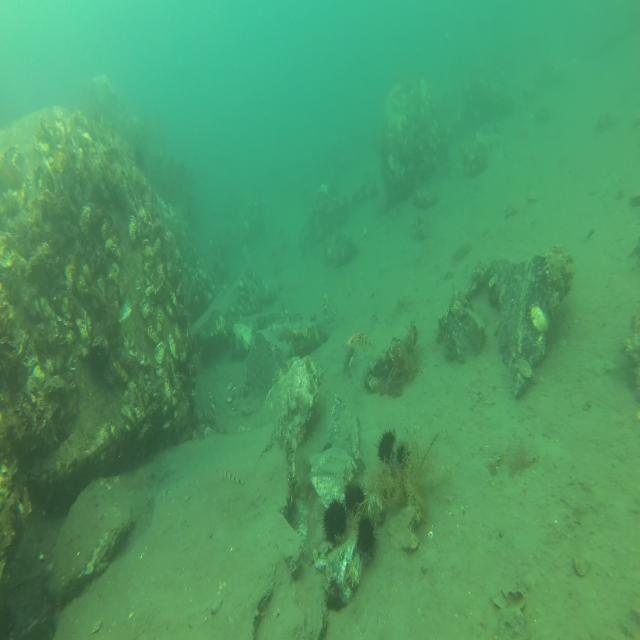echinus: (323, 496, 347, 543), (88, 343, 109, 381), (378, 429, 397, 465), (358, 517, 374, 557), (346, 482, 364, 508), (396, 445, 405, 463)
